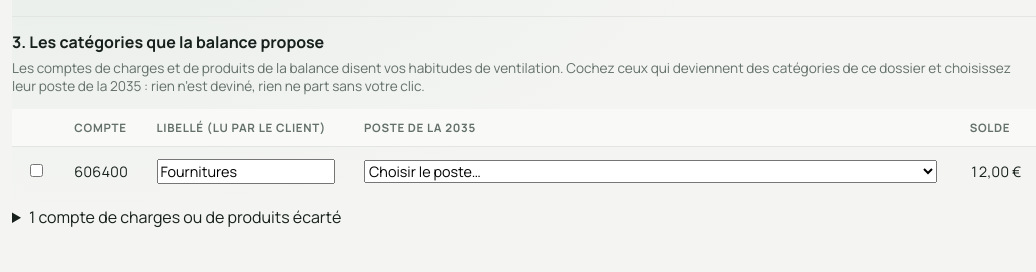
it: le troisième temps de la carte de la balance › « Chargement… », puis la proposition, rien de coché ni de deviné, le compte déjà tenu écarté et dit
Expected: the text "Chargement…" is shown, 12,59 -> 1035,95
Click the checkbox named "Créer la catégorie 606400": click(36, 171) 30,164 -> 43,177
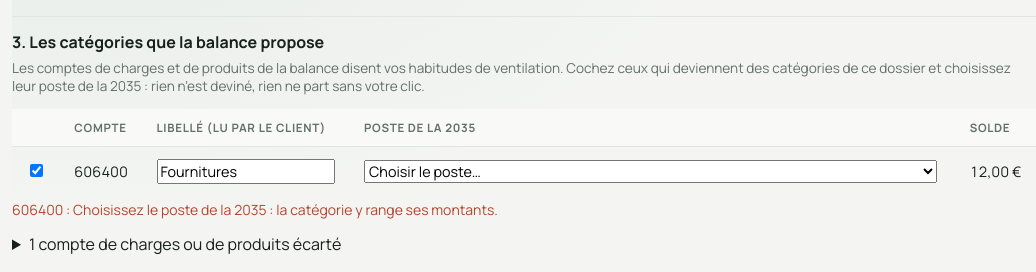
Now the text "Choisissez le poste de la 2035" is shown, box 73,200 -> 498,219
